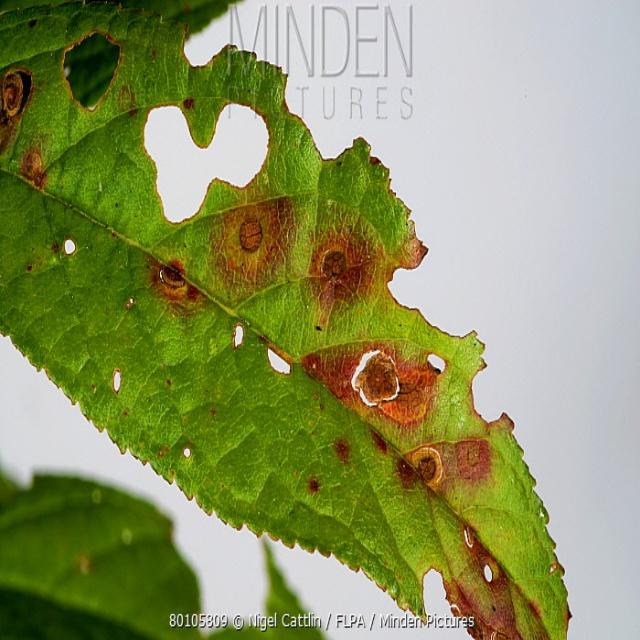shot_hole: (0, 15, 596, 631)
